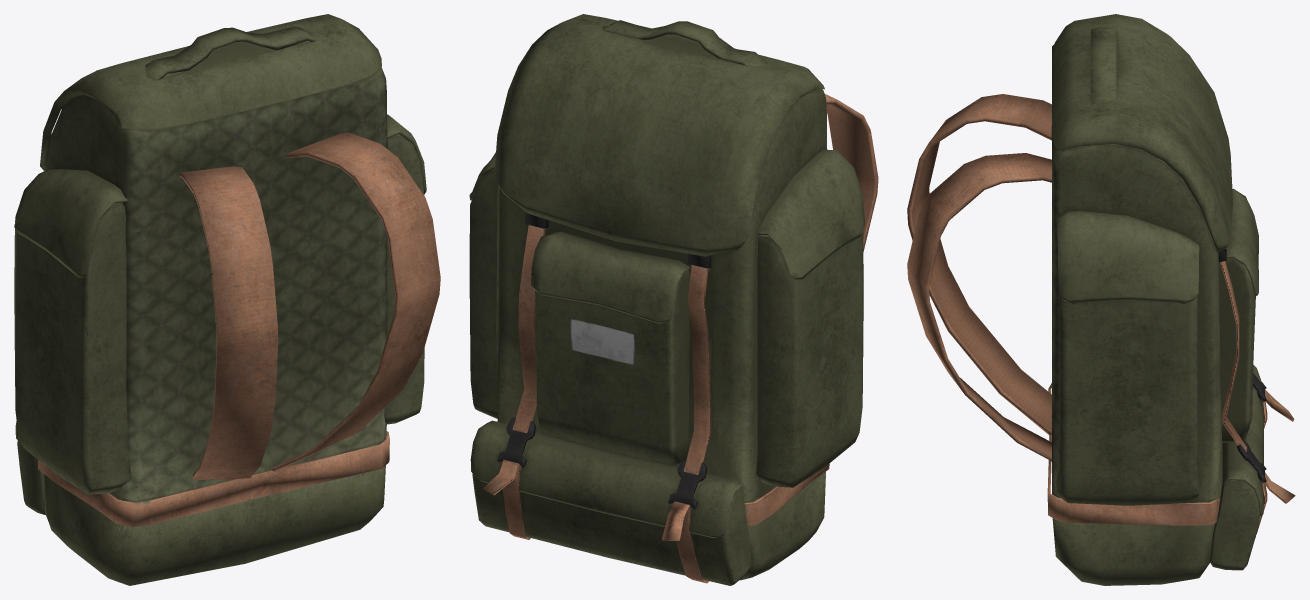
Rendered from rucksack.glb.
3 views of the same model, side by side, from view 1: azimuth 30°, elevation 25°; view 2: azimuth 150°, elevation 25°; view 3: azimuth 270°, elevation 25° (orthographic). The views are drawn at different scales.
Visible parts, largest first — view 1: Bag; view 2: Bag; view 3: Bag.
Boxes of the visible parts, x1,y1,x2,y2 form: Bag: [14, 14, 440, 585]; Bag: [469, 14, 878, 585]; Bag: [907, 14, 1295, 585].
Bounding box in the file's own units: 0.3902 × 0.5638 × 0.4036.
1 material, 1 textured.
